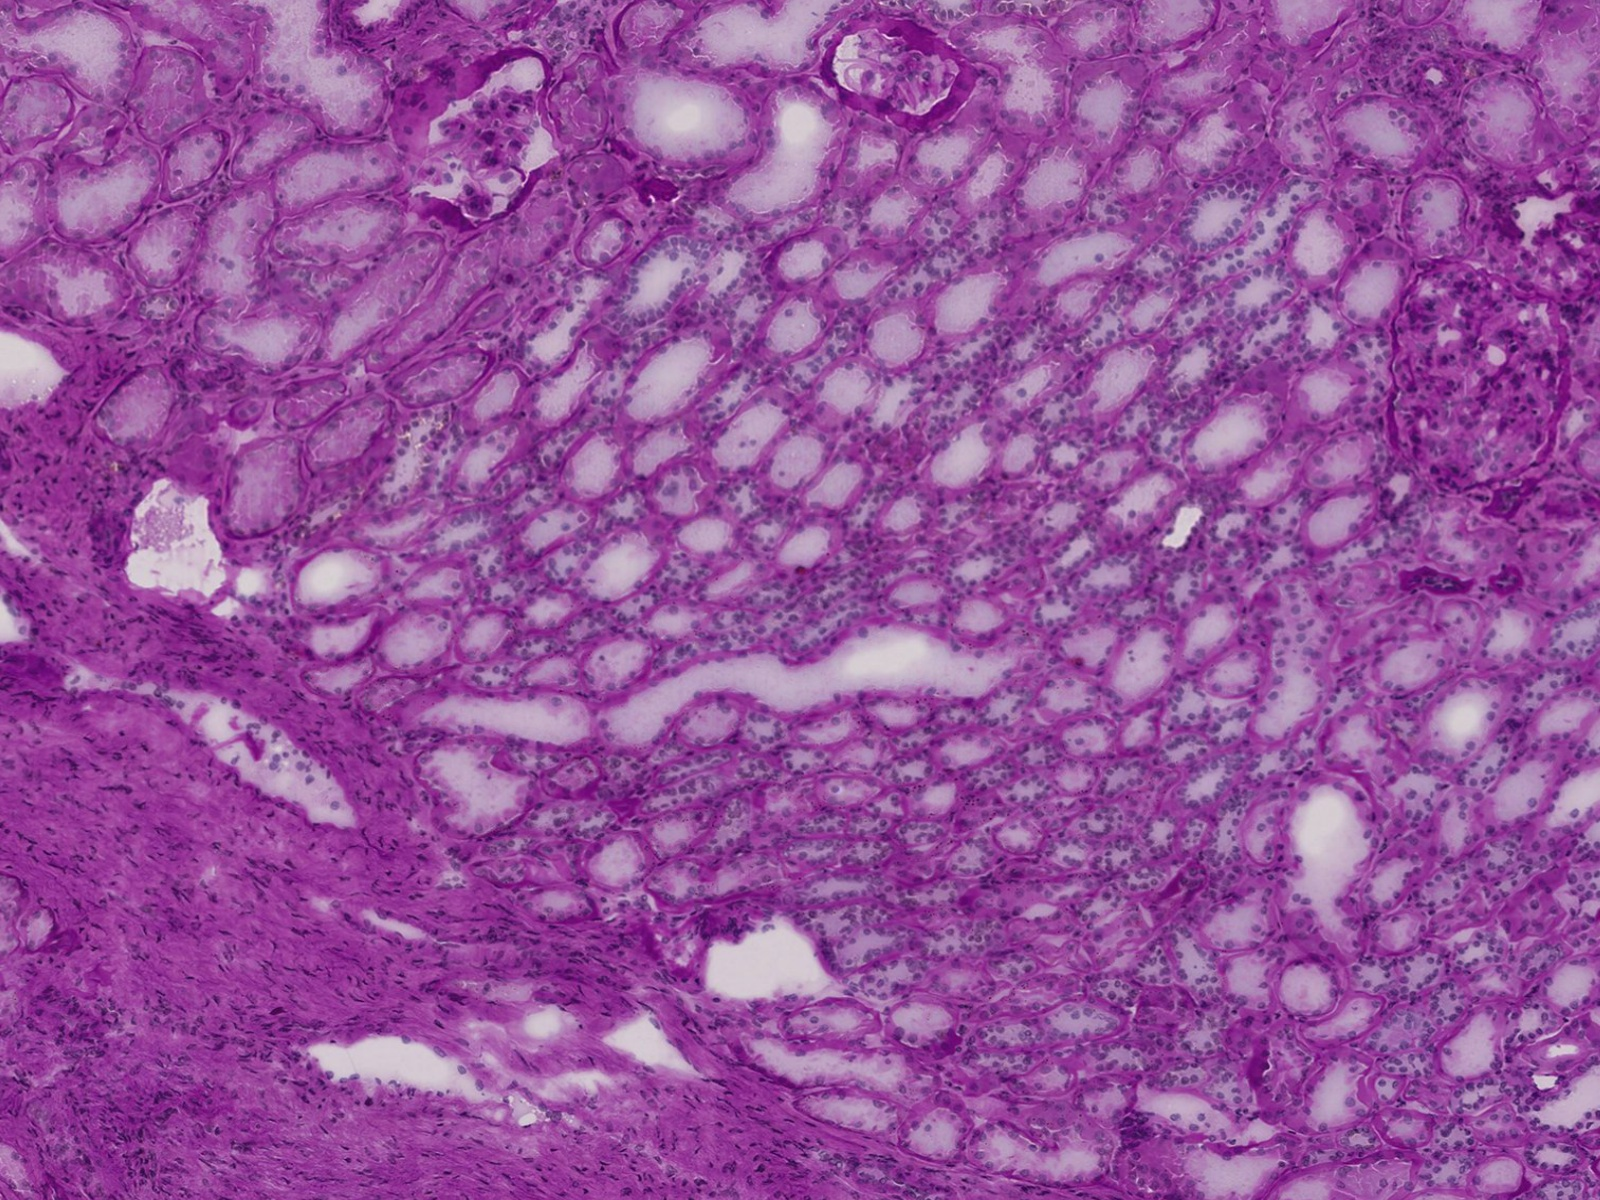Glomeruli: (1386, 252, 1574, 495)
